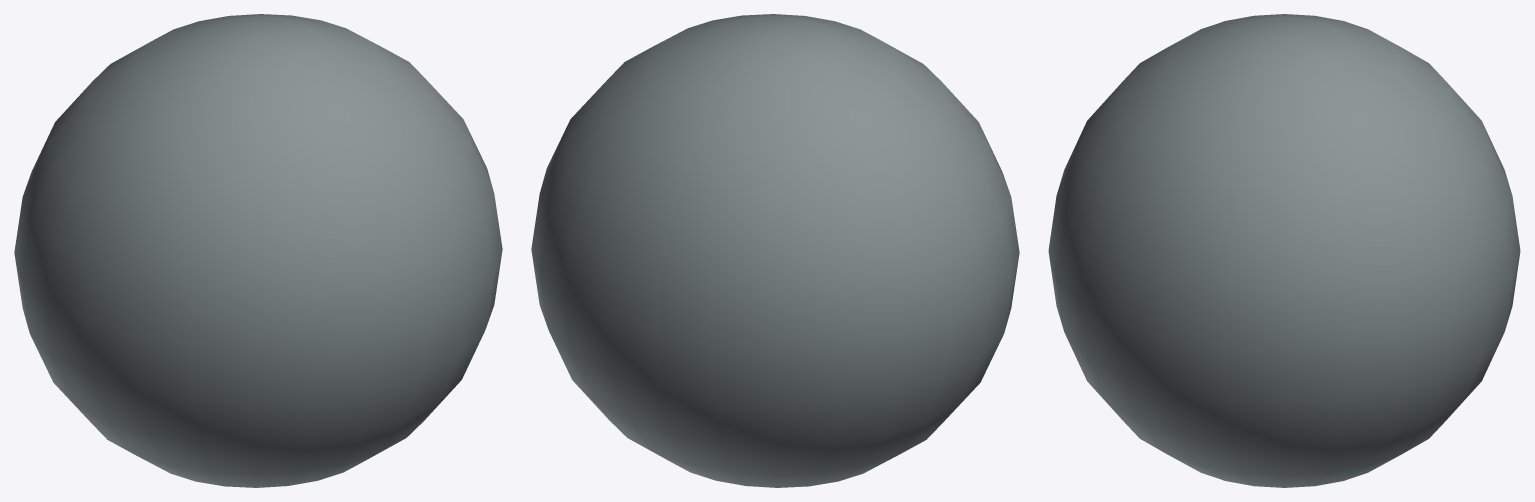
The model's file is Ball.glb.
3 renders of one model, left to right at view 1: azimuth 30°, elevation 25°; view 2: azimuth 150°, elevation 25°; view 3: azimuth 270°, elevation 25°, orthographic.
Visible parts, largest first — view 1: Ball.001; view 2: Ball.001; view 3: Ball.001.
Part boxes in pixels (box(x1,y1,x2,y2)): Ball.001: box(14, 14, 502, 487); Ball.001: box(531, 14, 1019, 487); Ball.001: box(1048, 14, 1520, 487).
Bounding box in the file's own units: 0.0454 × 0.0437 × 0.0437.
1 material, 1 textured.
